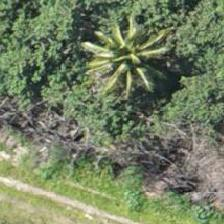coconut_tree: (78, 22, 168, 112)
